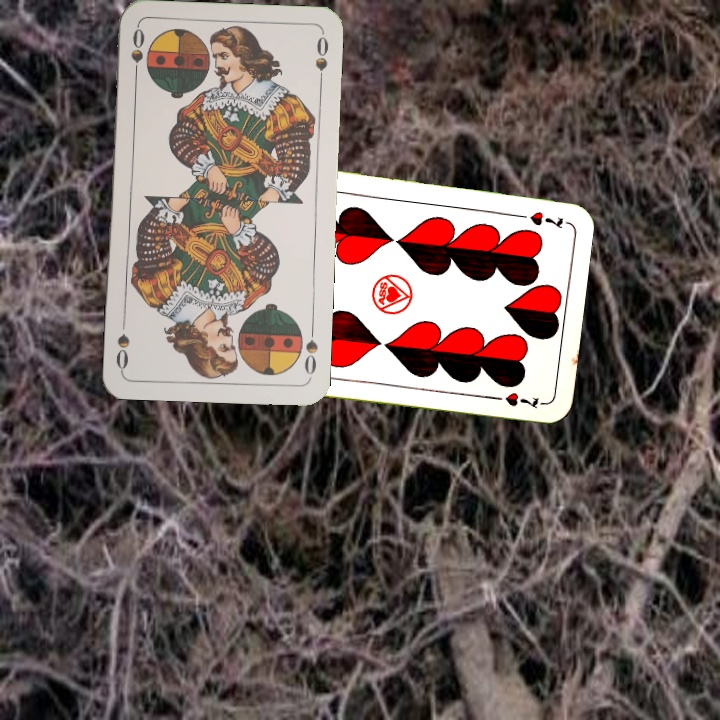H7: (509, 207, 565, 231)
SO: (127, 24, 147, 83), (300, 321, 320, 380)
